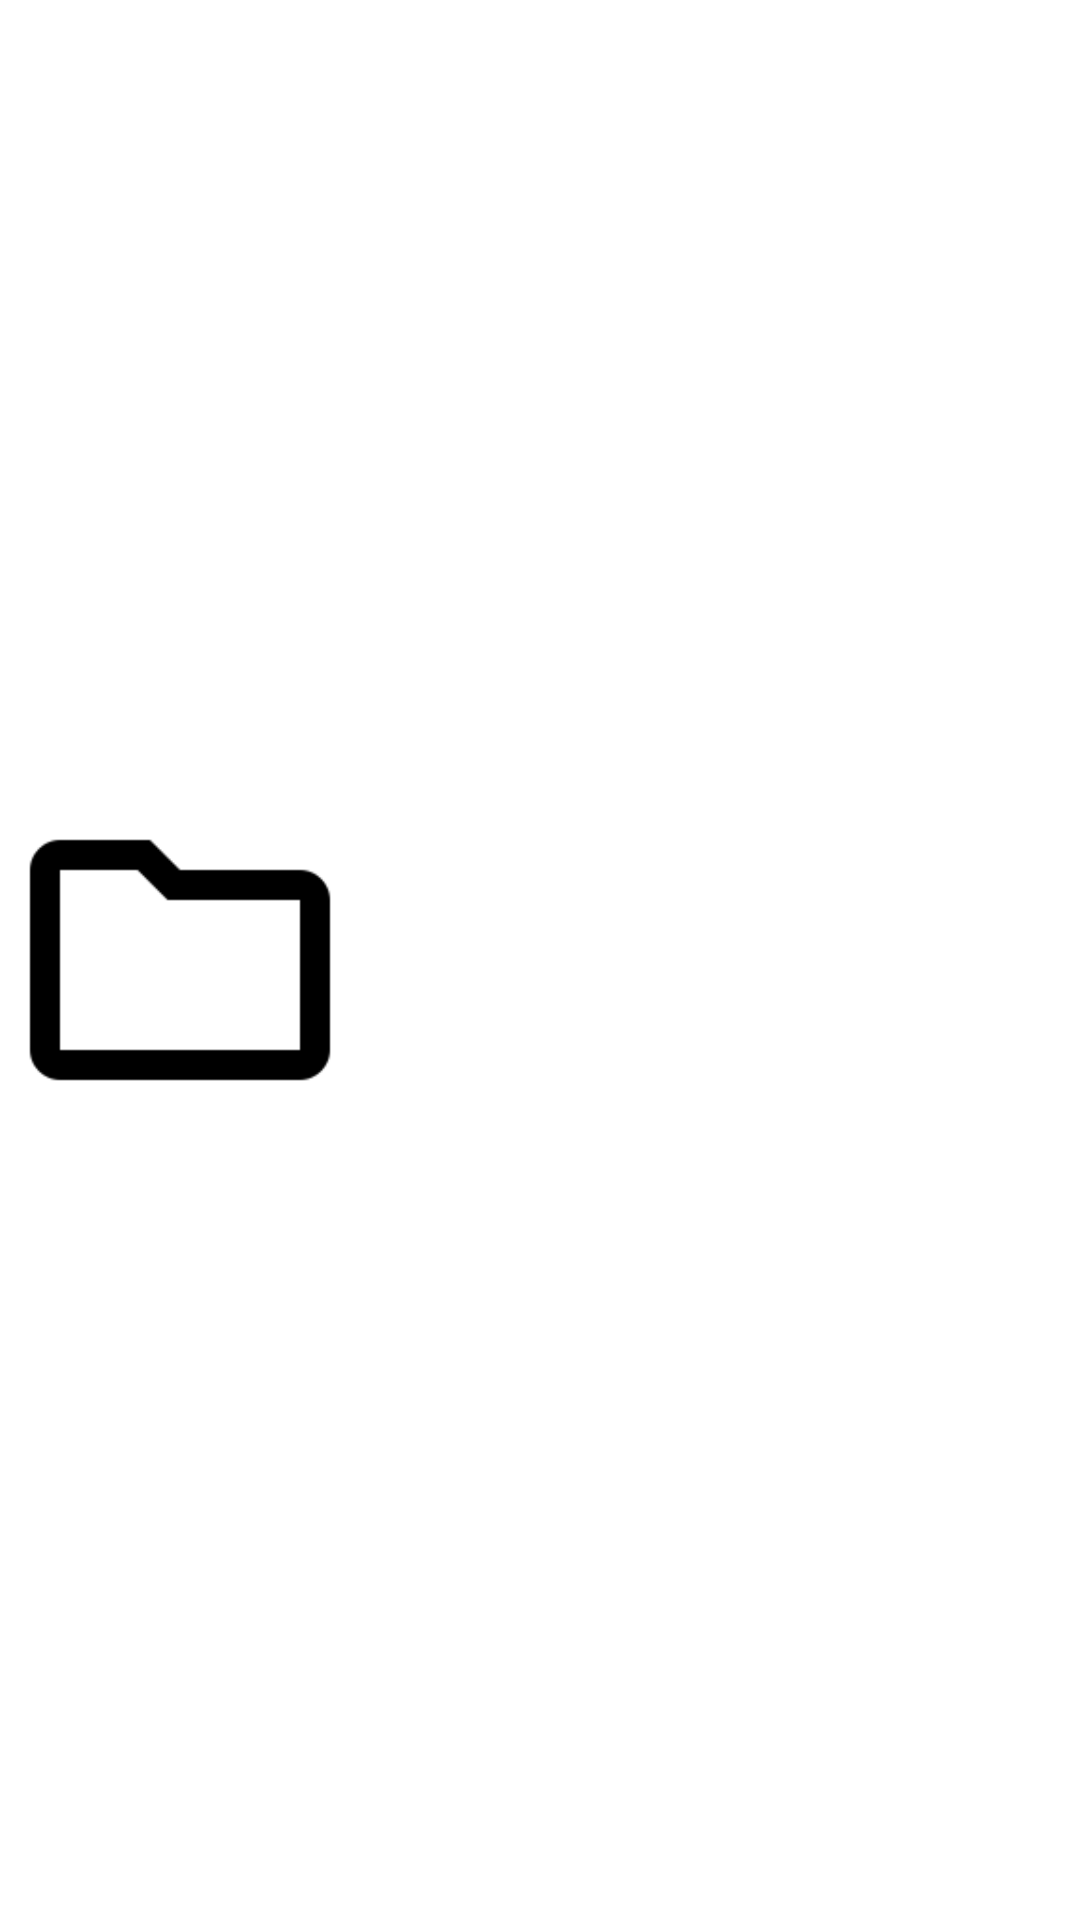

Named icons in this screenshot (1080×1920) and their bounding boxes, [x1, y1, x2, y2]:
arquivo morto: [29, 839, 331, 1081]
